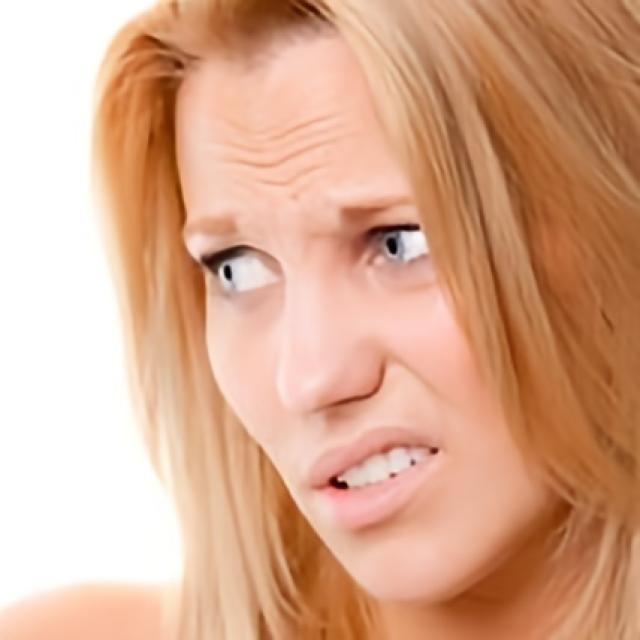disgust: (172, 38, 576, 607)
